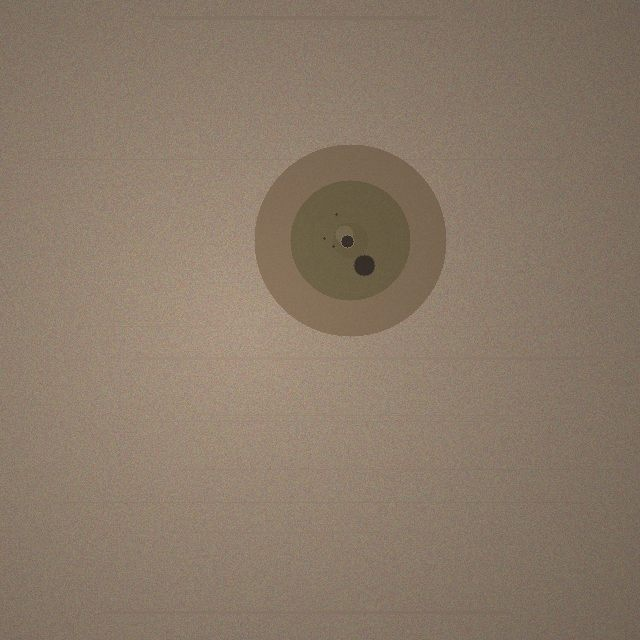shrinkage: (254, 144, 446, 336)
